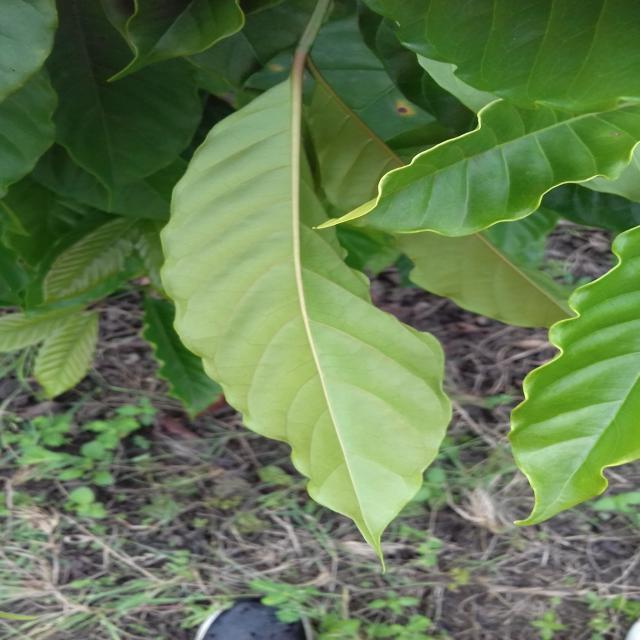Sanas: (159, 68, 454, 554)
